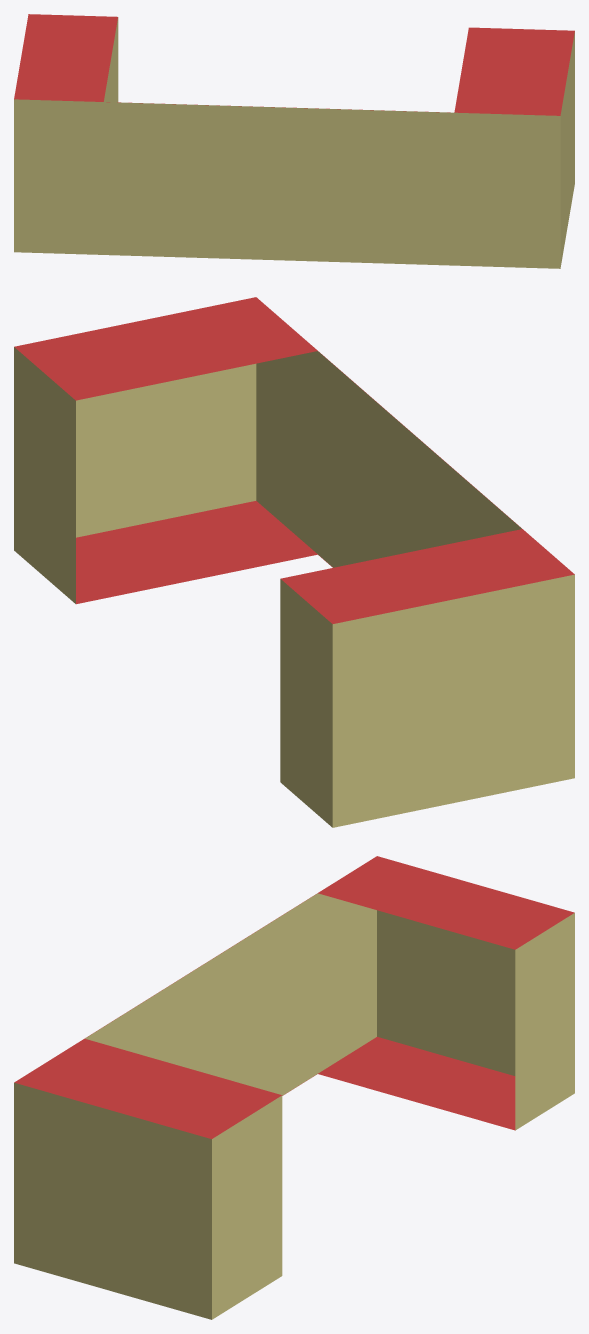
3 renders of one model, top to bottom at view 1: azimuth 30°, elevation 25°; view 2: azimuth 150°, elevation 25°; view 3: azimuth 270°, elevation 25°, orthographic. The views are drawn at different scales.
Parts seen in each view (by area): view 1: group_4, group_3; view 2: group_4, group_3, group_5; view 3: group_4, group_3, group_5.
Boxes of the visible parts, bbox=[...] form: group_4: bbox=[14, 17, 574, 268]; group_3: bbox=[14, 14, 574, 115]; group_4: bbox=[14, 347, 574, 827]; group_3: bbox=[14, 297, 574, 623]; group_5: bbox=[76, 501, 332, 604]; group_4: bbox=[14, 893, 574, 1319]; group_3: bbox=[14, 856, 574, 1138]; group_5: bbox=[282, 1037, 515, 1130].
Bounding box in the file's own units: 23.92 × 20.02 × 7.12.
